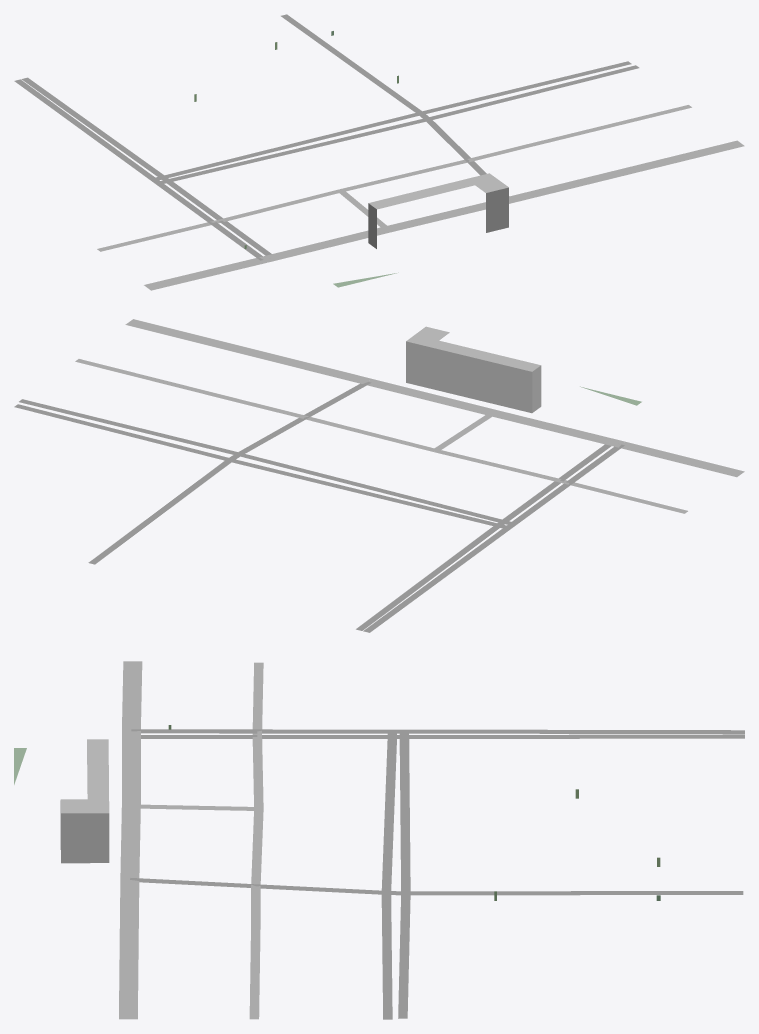
3 renders of one model, top to bottom at view 1: azimuth 30°, elevation 25°; view 2: azimuth 150°, elevation 25°; view 3: azimuth 270°, elevation 25°, orthographic. The views are drawn at different scales.
Size of the model in its own units: 628 by 41.27 by 539.
